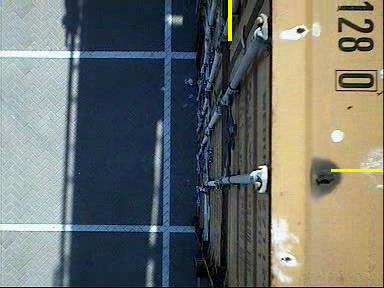groundmarker_2: (84, 157, 150, 202), (84, 15, 149, 60)
